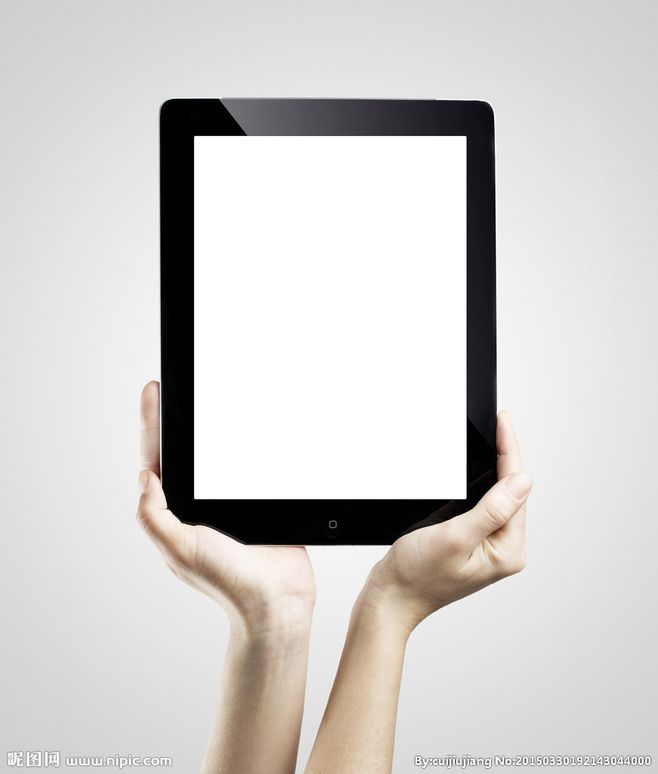pad: (123, 93, 538, 623)
